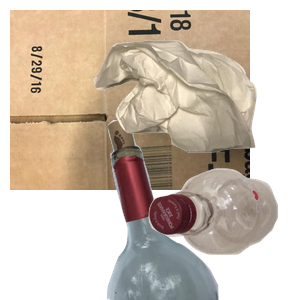cardboard: (10, 10, 250, 190)
glass: (83, 120, 294, 300)
plastic: (146, 166, 300, 300)
trash: (90, 38, 300, 183)
